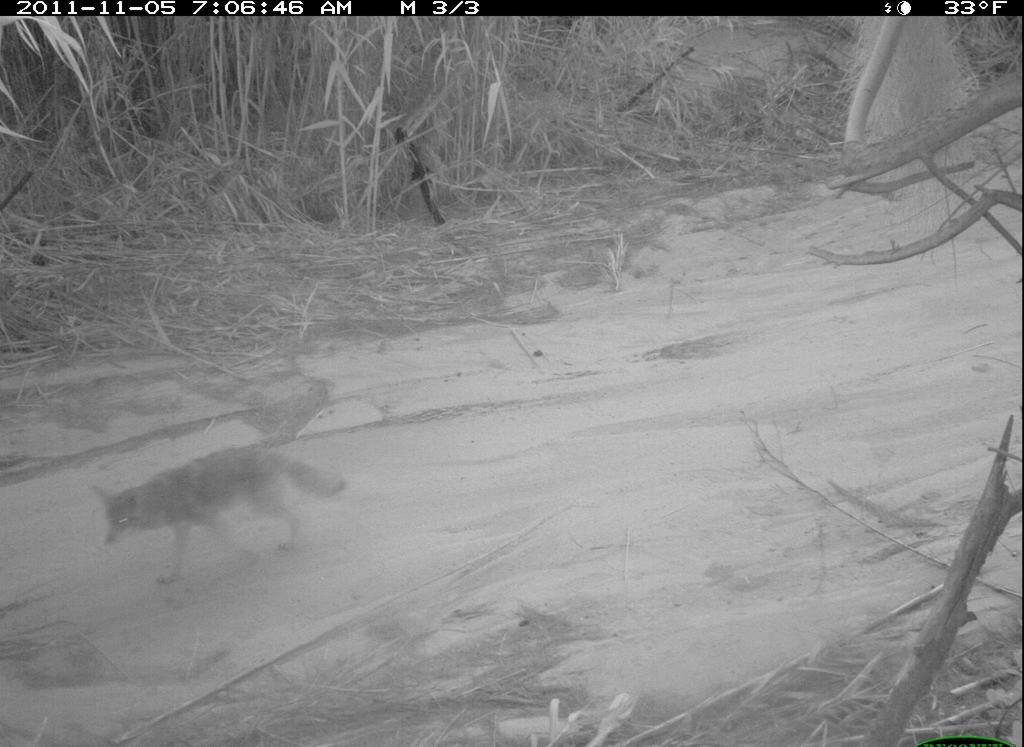coyote: (94, 440, 355, 594)
